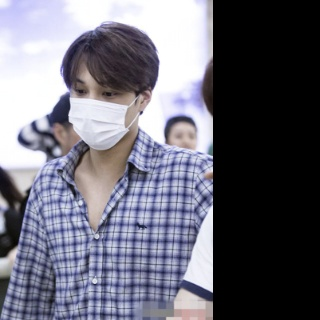with_mask: (70, 76, 142, 148)
